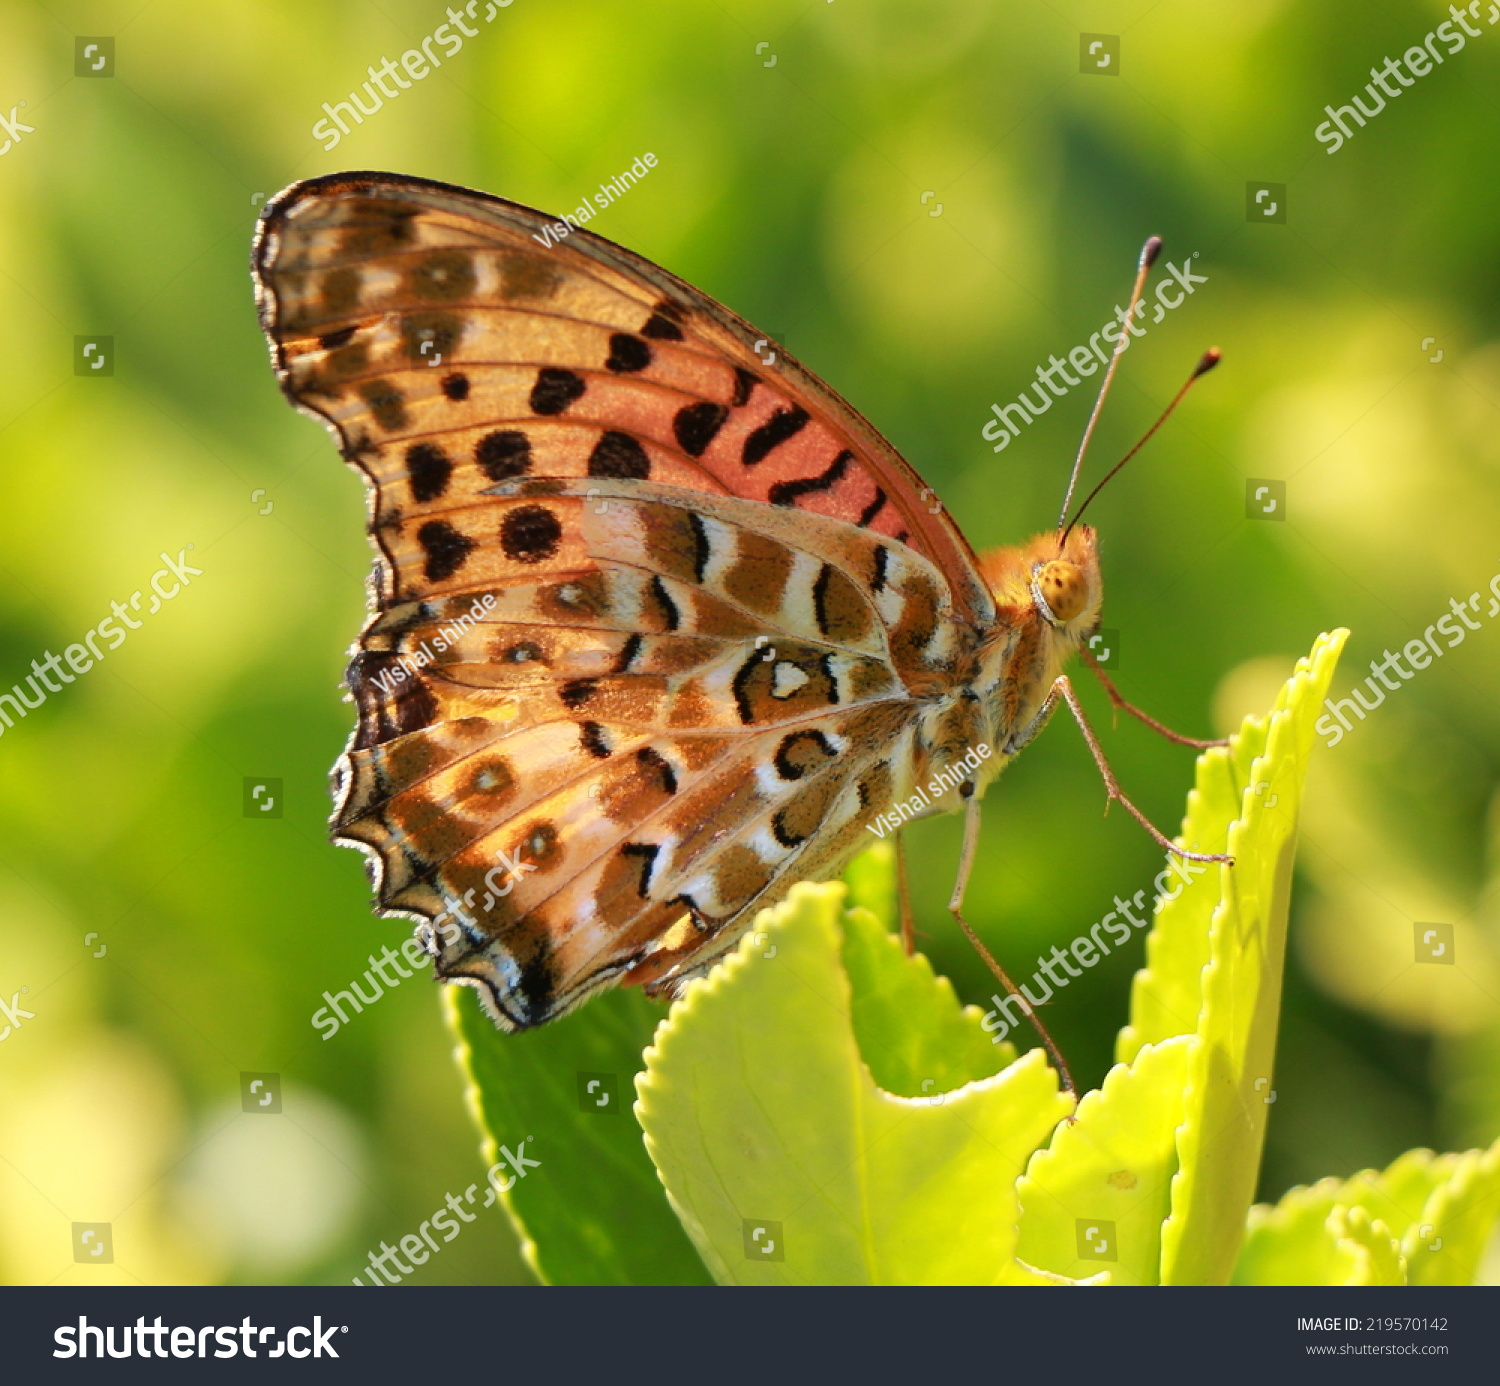Argyreus hyperbius: (229, 146, 1247, 1106)
butterfly: (231, 148, 1249, 1108)
